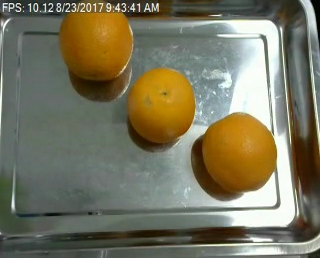Orange: (201, 111, 277, 193), (59, 1, 134, 83), (128, 68, 195, 144)
